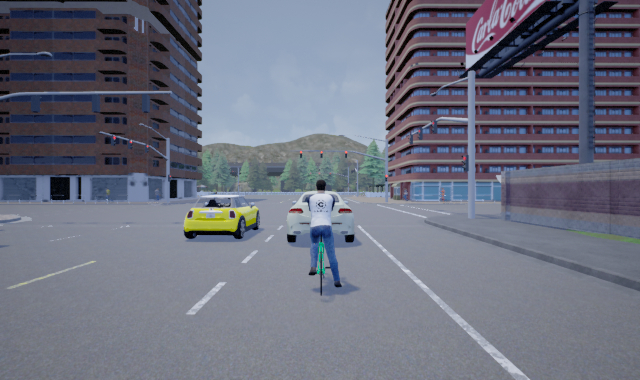bike: (307, 180, 344, 297)
pedestrian: (102, 186, 112, 203), (438, 186, 447, 202), (152, 186, 161, 202), (402, 186, 408, 202)
traffic_light: (461, 154, 470, 174), (430, 119, 437, 134), (416, 126, 423, 141), (111, 134, 116, 147), (128, 139, 133, 151), (168, 173, 173, 183), (384, 173, 389, 182), (145, 143, 149, 153), (344, 149, 348, 159), (299, 150, 303, 159), (320, 150, 324, 159)
vehicle: (285, 191, 355, 243), (183, 194, 259, 239)
